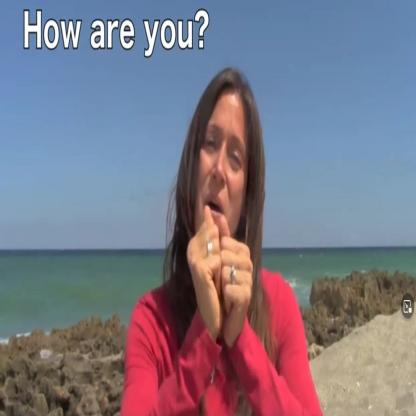HowAreYou: (180, 196, 257, 360)
